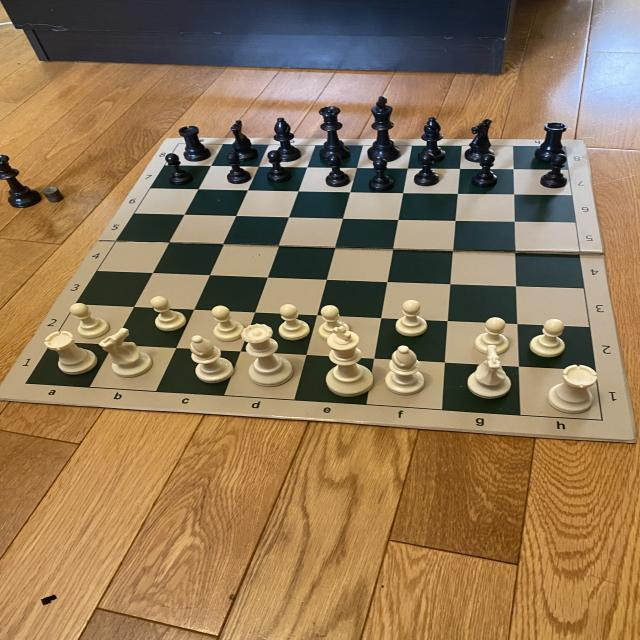Chessboard-Corners: (593, 413, 610, 425), (559, 141, 574, 152), (20, 379, 34, 390), (173, 139, 183, 147)
